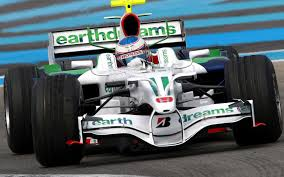FormulaOneCar: (3, 1, 284, 166)
